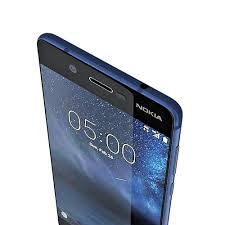nokia: (33, 28, 184, 224)
